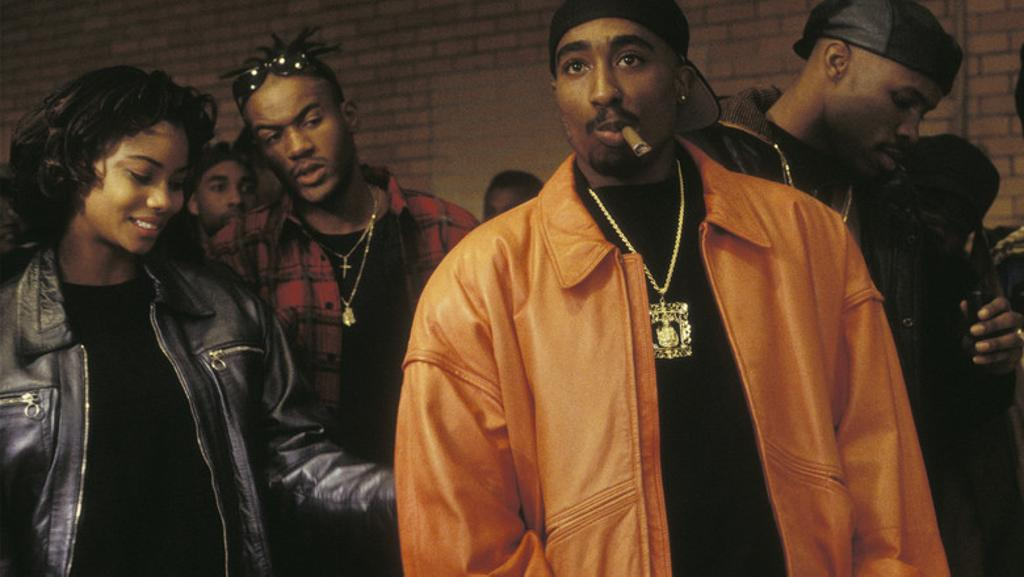face: (554, 22, 674, 177), (80, 115, 190, 254), (843, 44, 945, 183), (244, 76, 346, 205), (898, 167, 977, 264), (198, 159, 259, 239), (483, 185, 536, 248)
